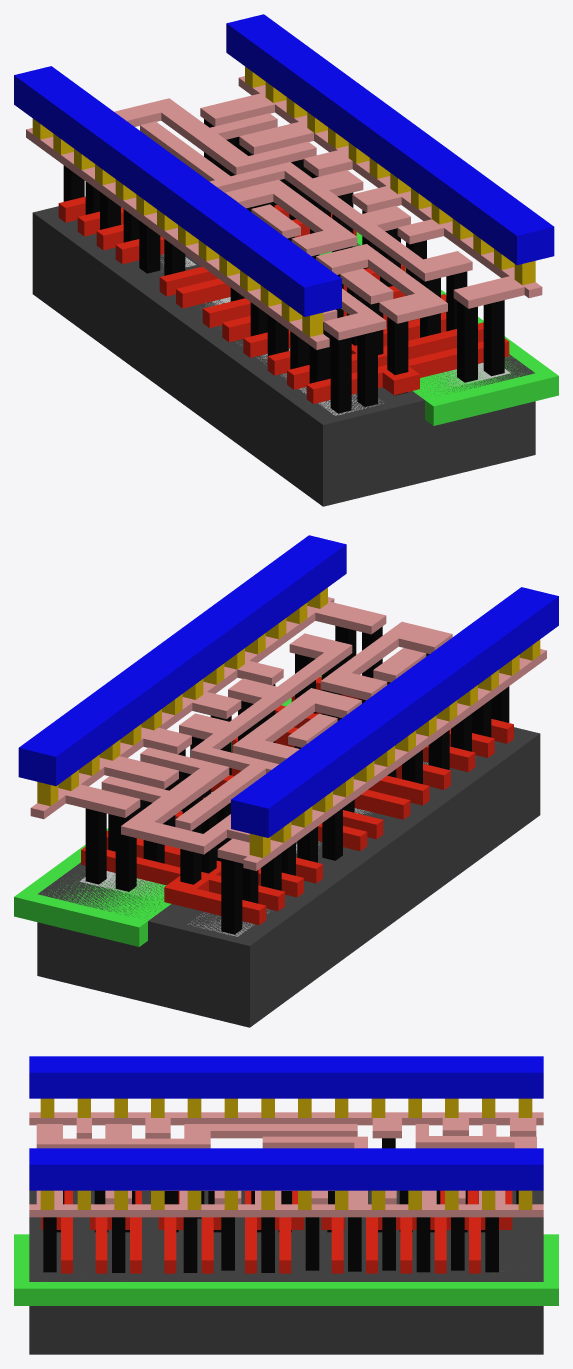
File: sky130_fd_sc_hd__o211a_4.obj
The picture shows the model from 3 angles, top to bottom: view 1: azimuth 30°, elevation 25°; view 2: azimuth 150°, elevation 25°; view 3: azimuth 270°, elevation 25°; orthographic projection. The views are drawn at different scales.
Visible parts, largest first — view 1: subs, metal1, li, licon, poly, mcon, nwell; view 2: subs, metal1, li, licon, poly, mcon, nwell; view 3: metal1, subs, li, nwell, poly, licon, mcon.
Boxes of the visible parts, box(x1,y1,x2,y2) form: subs: box(32, 206, 535, 506); metal1: box(14, 14, 554, 316); li: box(26, 76, 542, 349); licon: box(63, 119, 504, 413); poly: box(58, 196, 509, 403); mcon: box(32, 66, 535, 336); nwell: box(319, 232, 558, 425); subs: box(37, 727, 540, 1027); metal1: box(18, 535, 558, 837); li: box(30, 597, 546, 870); licon: box(85, 625, 509, 934); poly: box(81, 677, 513, 925); mcon: box(37, 587, 540, 857); nwell: box(14, 676, 321, 946); metal1: box(29, 1056, 543, 1190); subs: box(29, 1190, 543, 1354); li: box(29, 1112, 543, 1217); nwell: box(14, 1234, 558, 1305); poly: box(41, 1190, 512, 1273); licon: box(43, 1138, 518, 1272); mcon: box(40, 1098, 532, 1209).
Size of the model in its own units: 3.2 by 2.74 by 6.82.
